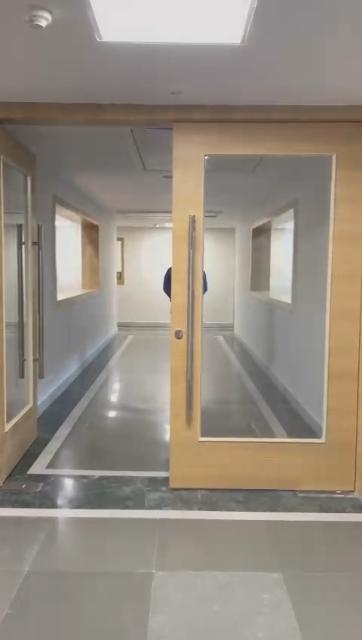door: (166, 117, 362, 493)
floor: (0, 324, 362, 640)
moving-obj: (167, 242, 219, 371)
